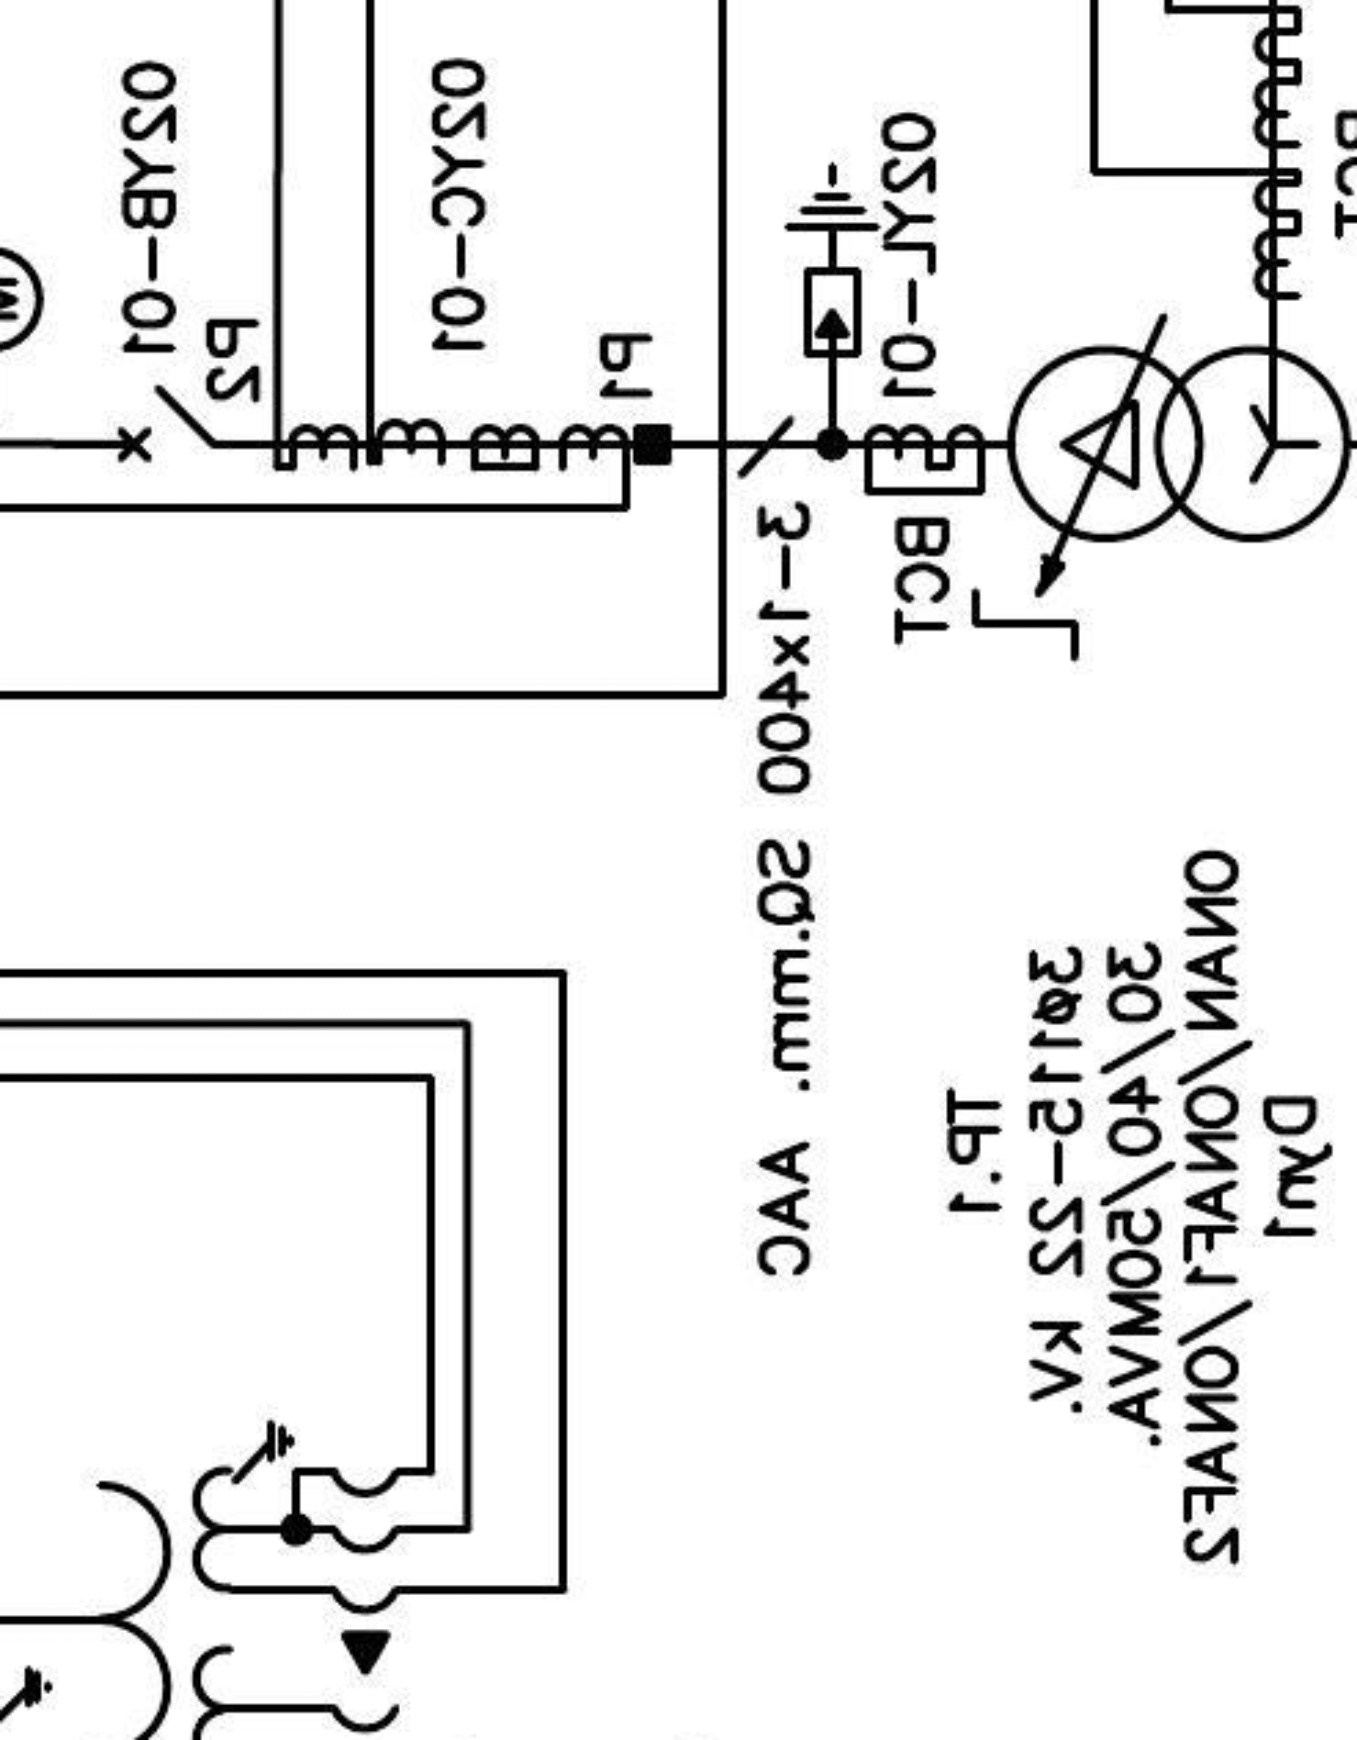11522_tx_dyn1: (1005, 343, 1354, 545)
115_breaker: (116, 381, 217, 465)
115_la: (781, 160, 884, 360)
